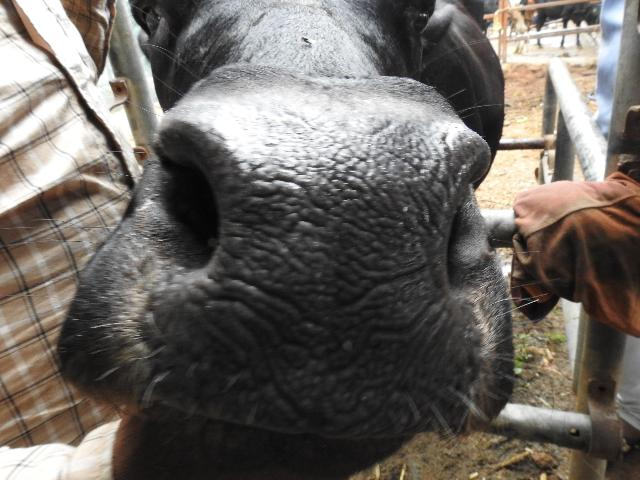Muzzle: (190, 105, 448, 416)
